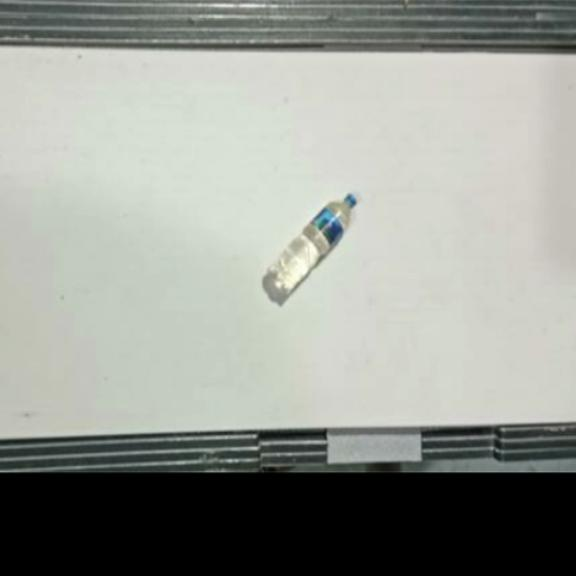Plastik: (267, 194, 358, 298)
